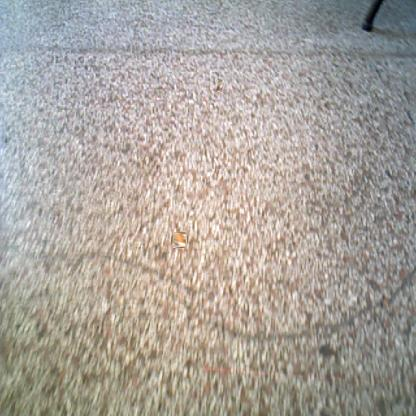dirty: (172, 232, 187, 247), (216, 80, 224, 92)
